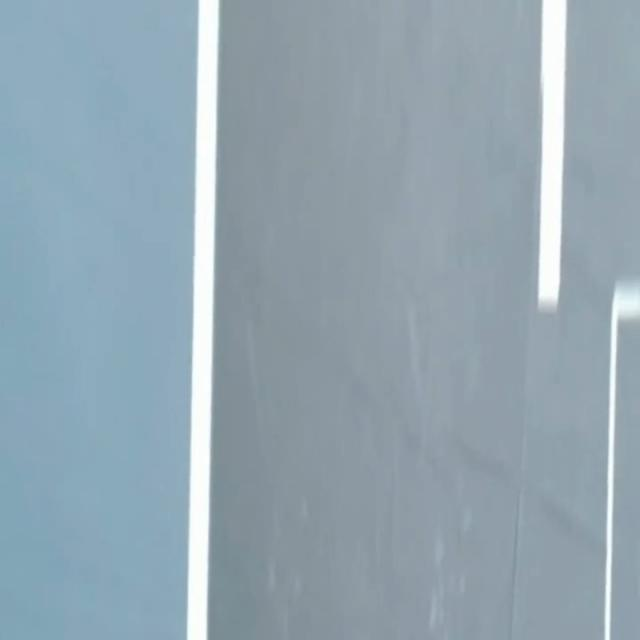center: (538, 0, 566, 311)
left: (187, 0, 219, 639)
